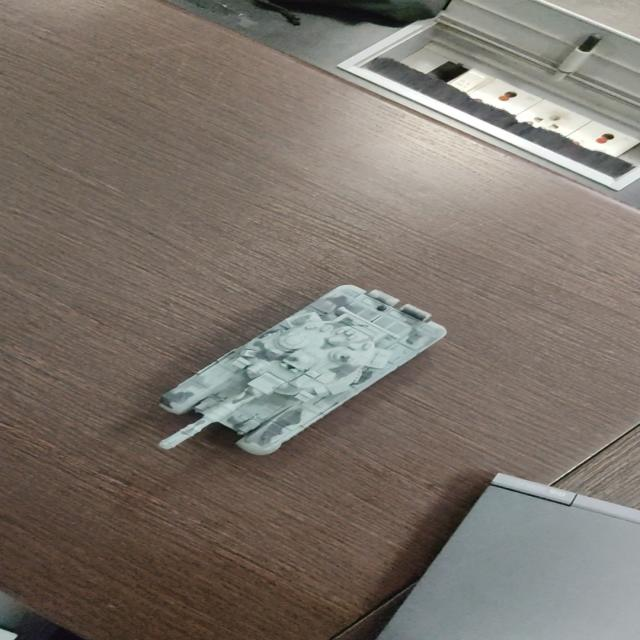tank: (140, 274, 467, 464)
